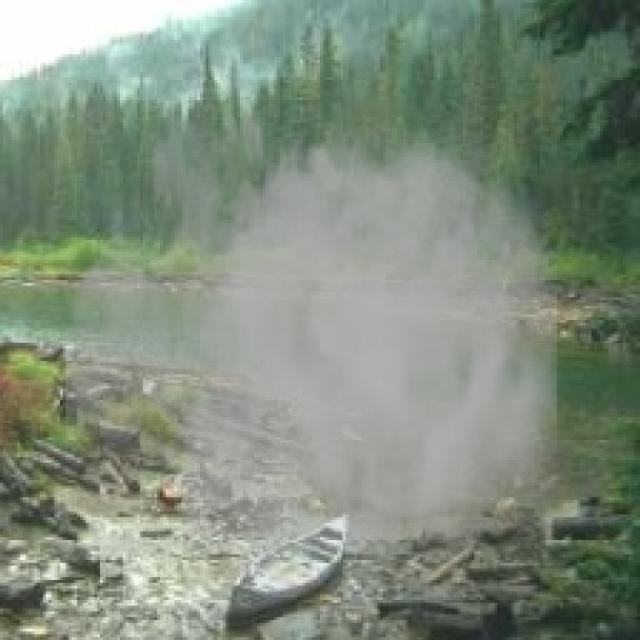Smoke: (66, 45, 588, 598)
